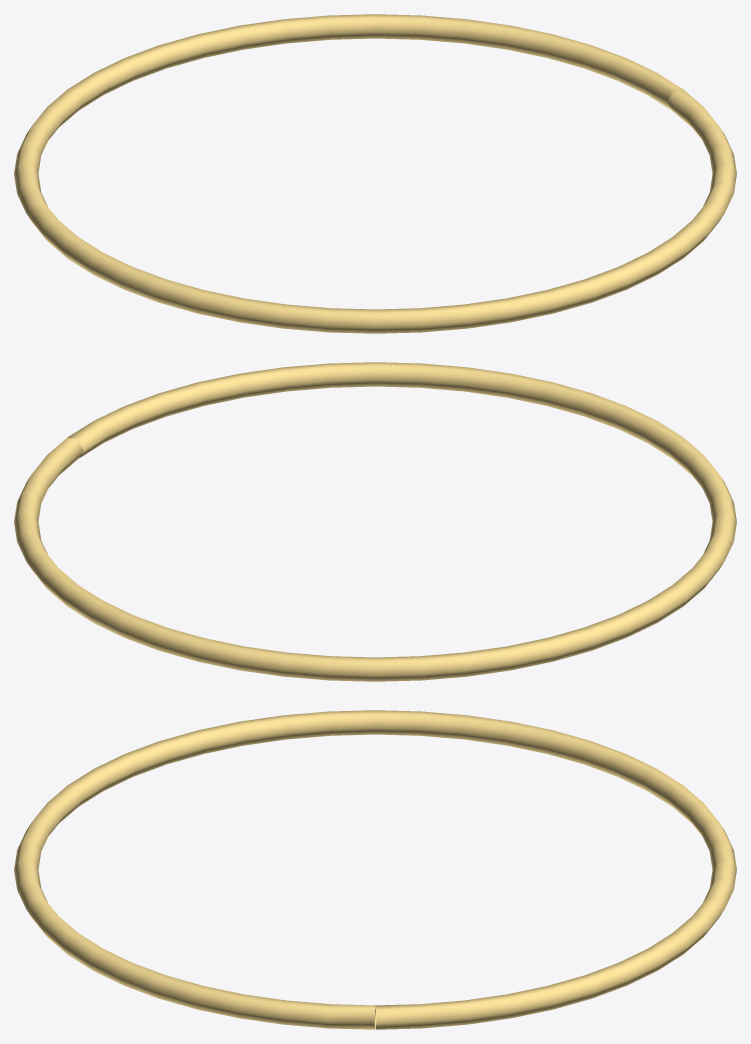
The model's file is Entablature.obj.
3 views of the same model, one above another, from view 1: azimuth 30°, elevation 25°; view 2: azimuth 150°, elevation 25°; view 3: azimuth 270°, elevation 25° (orthographic).
Visible parts, largest first — view 1: Entablature; view 2: Entablature; view 3: Entablature.
Boxes of the visible parts, x1,y1,x2,y2 form: Entablature: [14, 14, 736, 333]; Entablature: [14, 362, 736, 681]; Entablature: [14, 710, 736, 1029].
Bounding box in the file's own units: 2.07 × 0.0606 × 2.07.
Materials: 1 (1 with a texture image).
